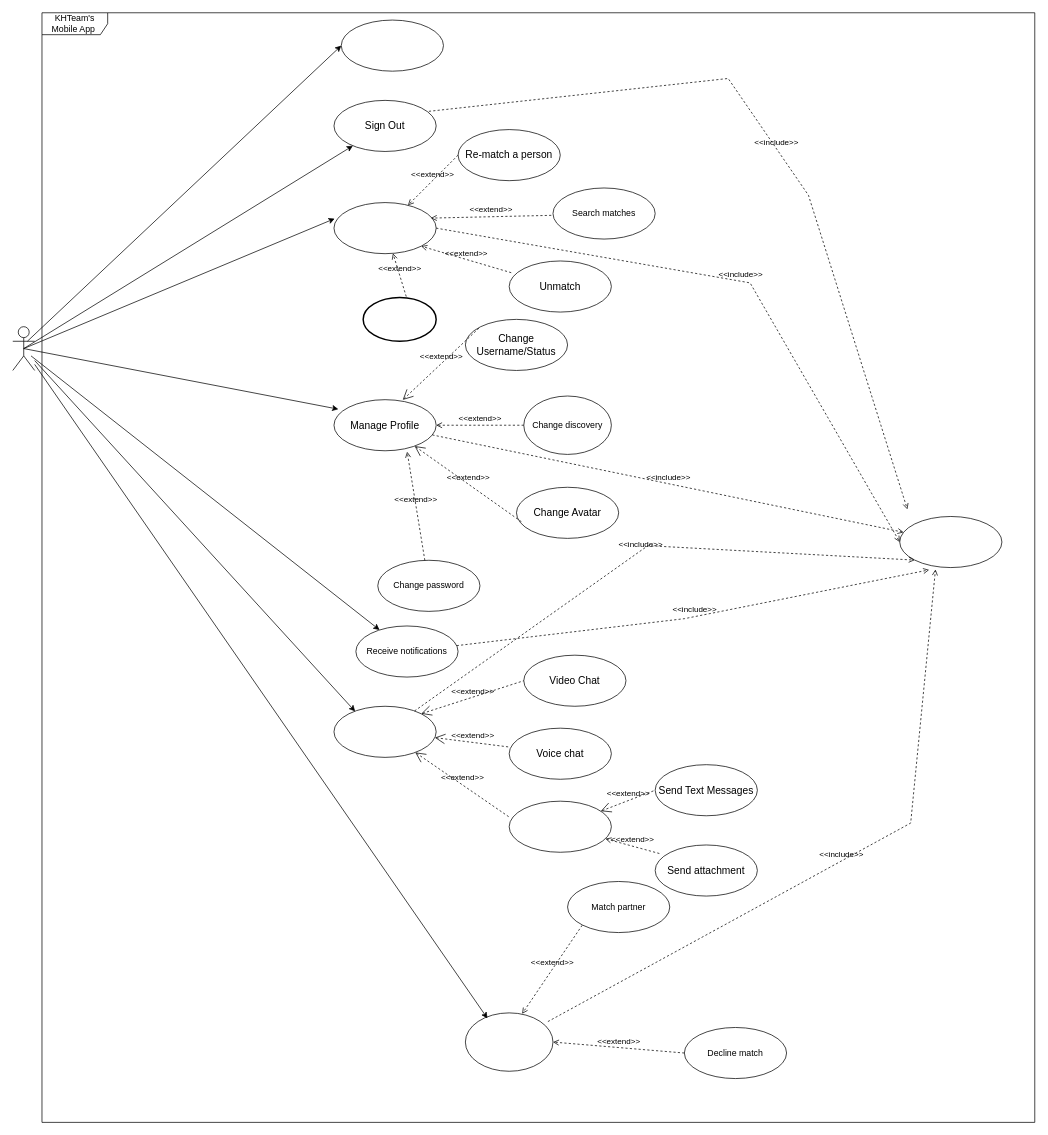
The diagram is 1048 pixels wide and 1135 high, and some of its shapes have lost their labels. Here are the shapes that lost their labels. From the top down, the box of each, then its label:
(341, 19, 443, 71): Register
(333, 202, 436, 254): Manage matches
(362, 296, 437, 342): Favorite /Archive match chat
(12, 326, 35, 370): Actor
(899, 516, 1002, 568): Sign In
(333, 706, 436, 757): Chat
(508, 800, 611, 852): Send Message
(465, 1012, 553, 1071): Find Matching partner
